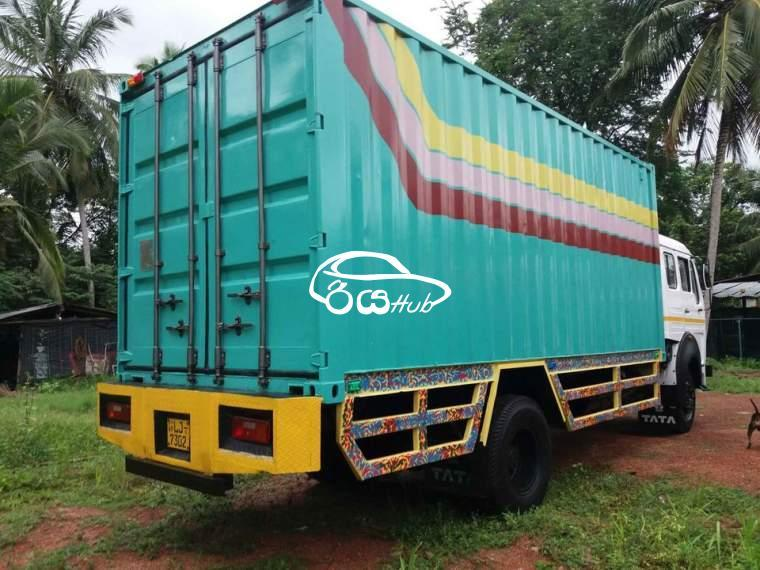truck: (94, 1, 710, 511)
